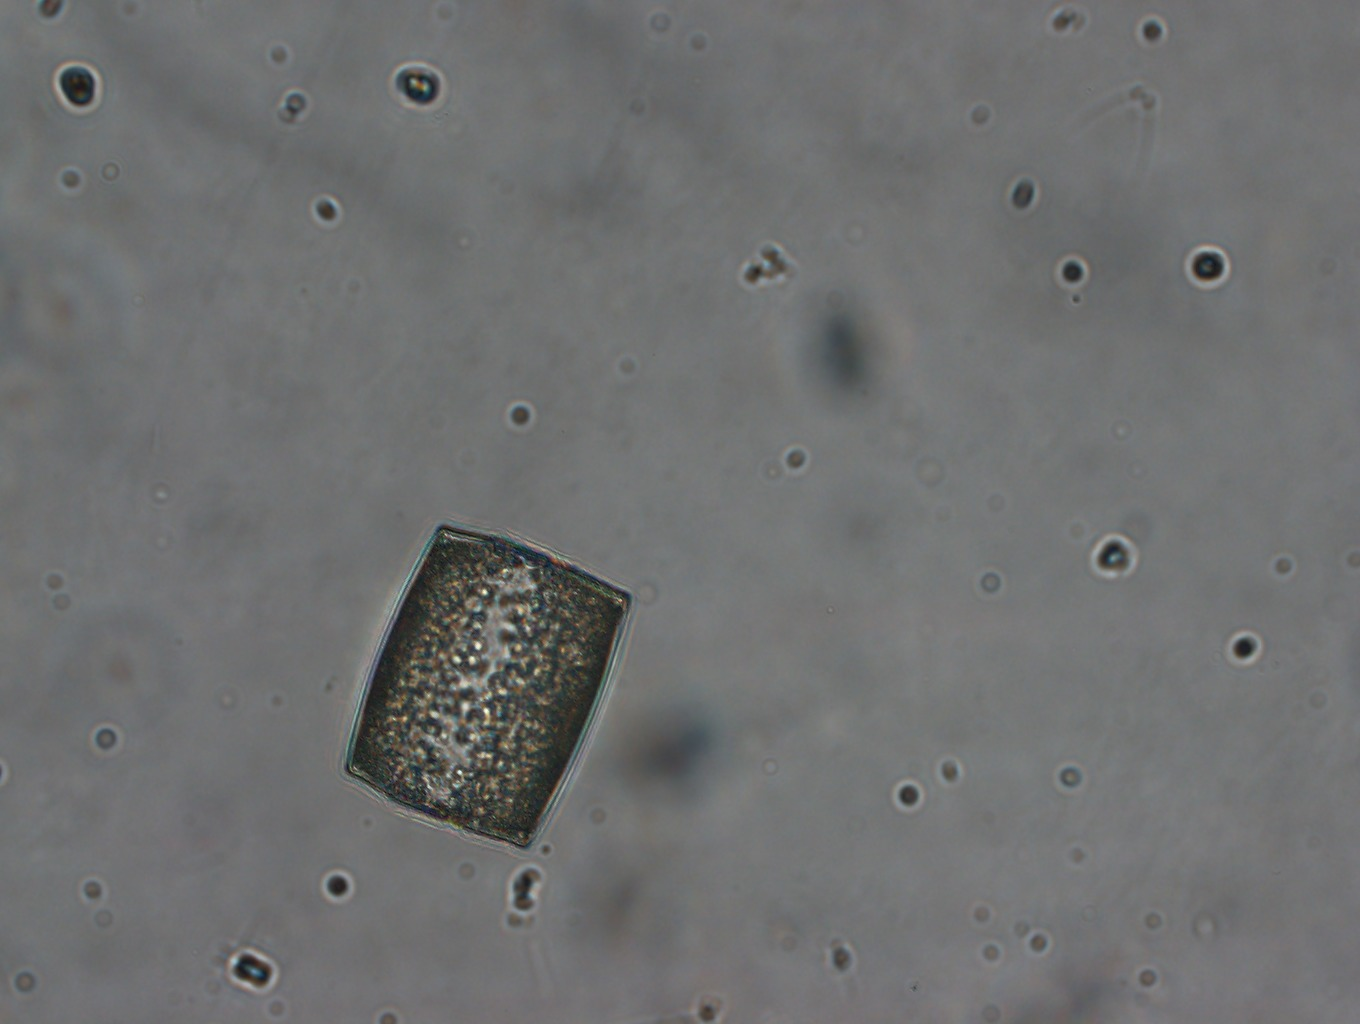coscinodiscus flank: (337, 503, 638, 857)
